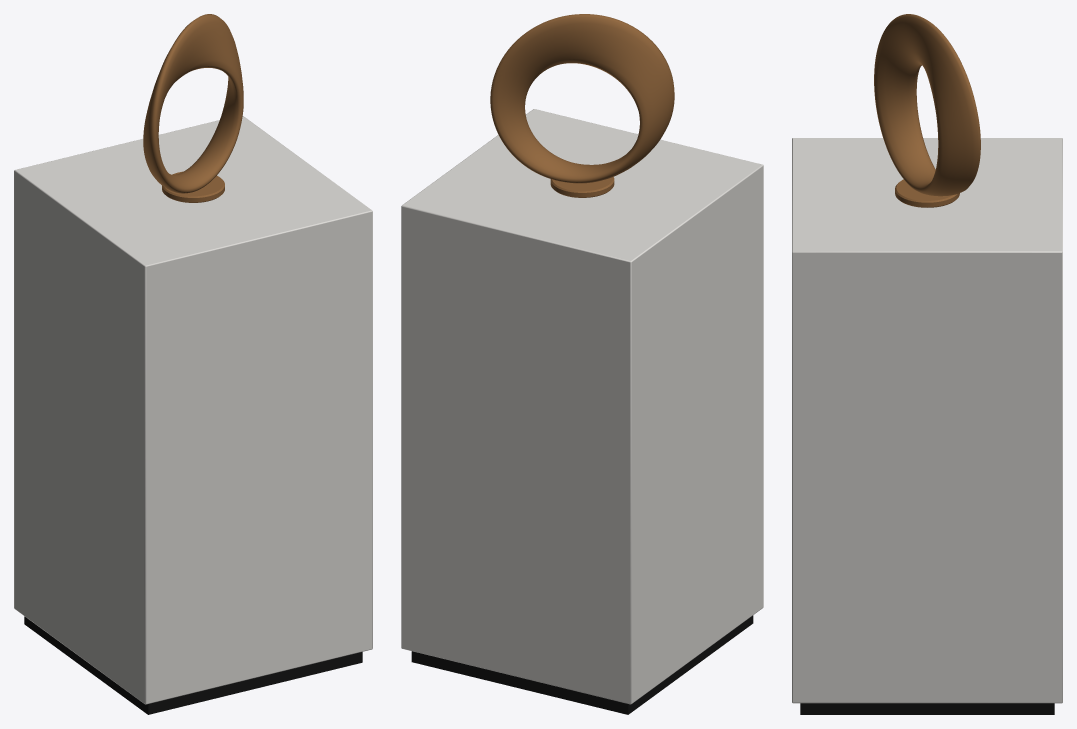
The model's file is pedestal.glb.
3 views of the same model, side by side, from view 1: azimuth 30°, elevation 25°; view 2: azimuth 150°, elevation 25°; view 3: azimuth 270°, elevation 25° (orthographic). The views are drawn at different scales.
Visible parts, largest first — view 1: Plinth, Sculpture; view 2: Plinth, Sculpture; view 3: Plinth, Sculpture.
Boxes of the visible parts, bbox=[...] form: Plinth: bbox=[14, 116, 372, 714]; Sculpture: bbox=[143, 14, 243, 202]; Plinth: bbox=[401, 109, 763, 714]; Sculpture: bbox=[490, 14, 674, 197]; Plinth: bbox=[792, 138, 1062, 714]; Sculpture: bbox=[874, 14, 980, 207].
Size of the model in its own units: 0.5 by 1.31 by 0.5.
